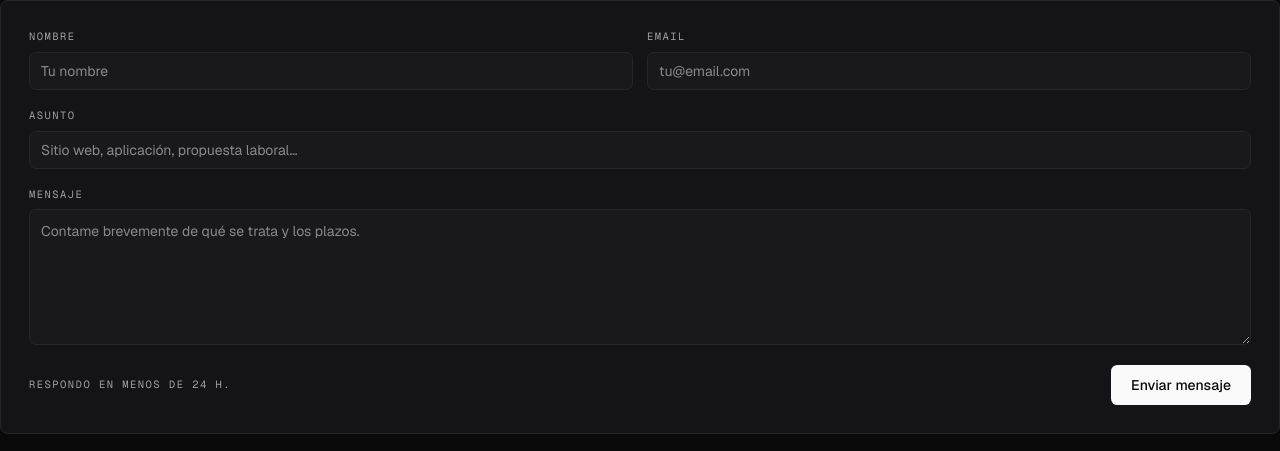
it: ContactForm › muestra el error del servidor cuando el envío falla
The width and height of the screenshot is (1280, 451).
In the field labelled "Nombre": (331, 71) x1=29 y1=52 x2=633 y2=90, type "Ada Lovelace"
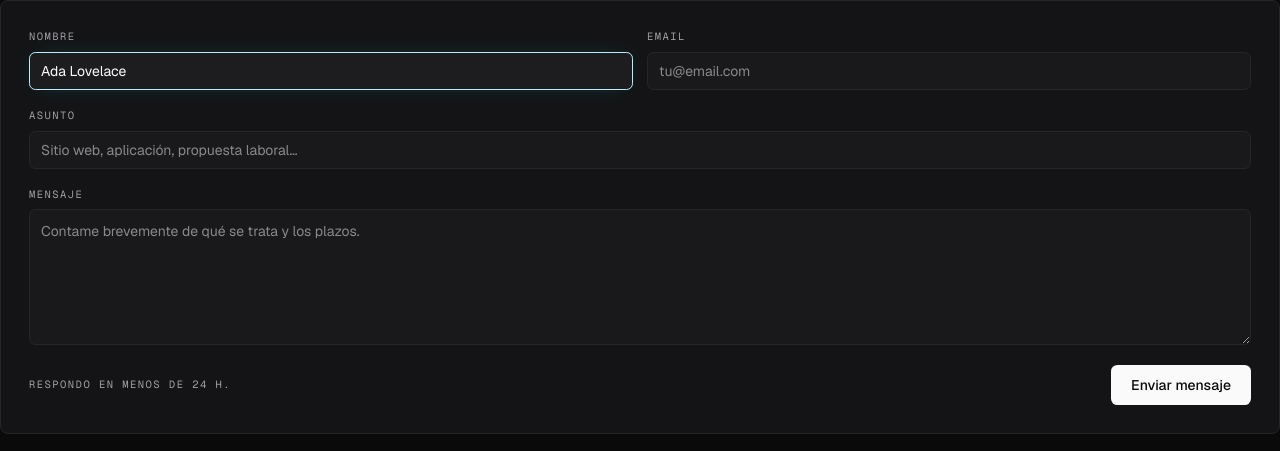
In the field labelled "Email": (949, 71) x1=647 y1=52 x2=1251 y2=90, type "ada@example.com"
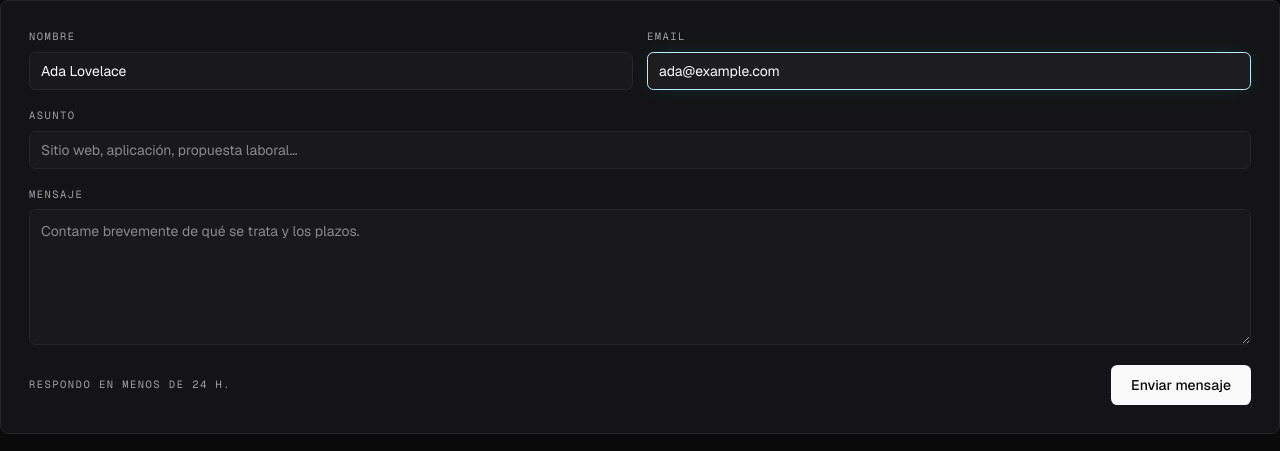
In the text box labelled "Mensaje": (640, 277) x1=29 y1=209 x2=1251 y2=345, type "Hola."
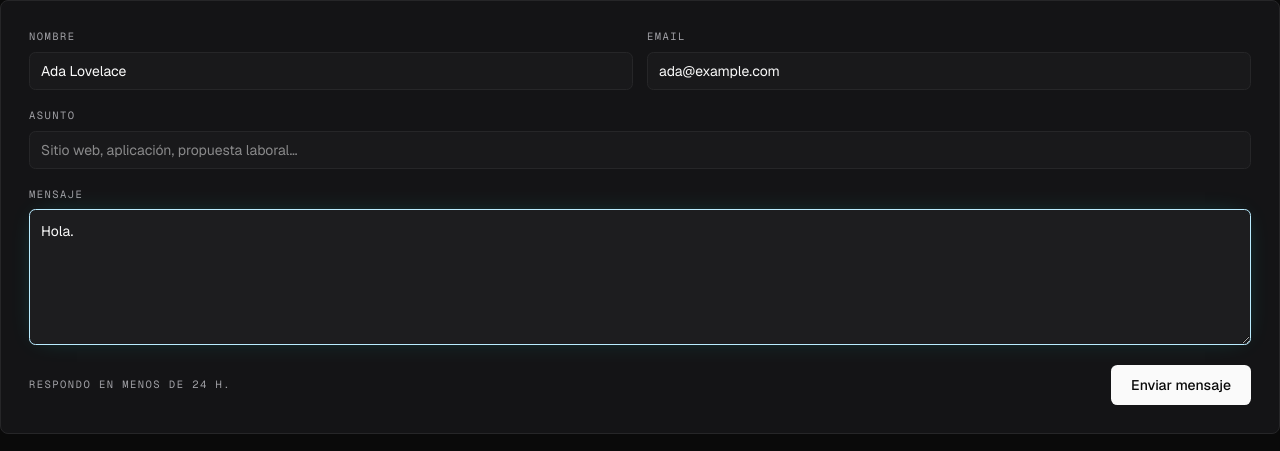
Click the button "Enviar mensaje": (1181, 385) x1=1111 y1=365 x2=1251 y2=405
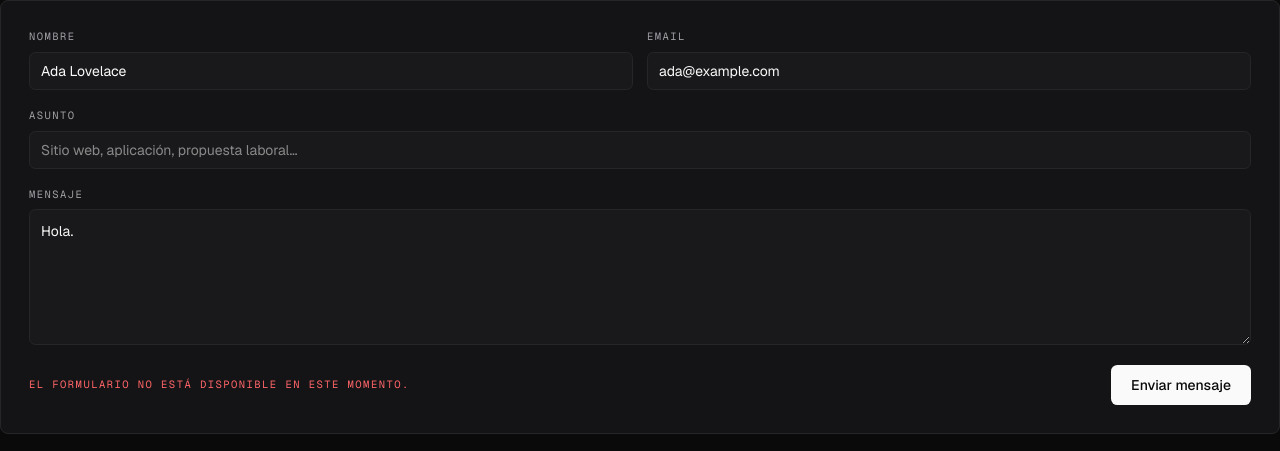
expect the text "El formulario no está disponible en este momento." is shown: met, box x1=29 y1=377 x2=410 y2=393
